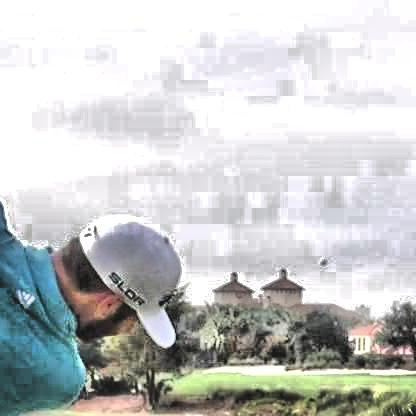golfball: (315, 255, 327, 265)
